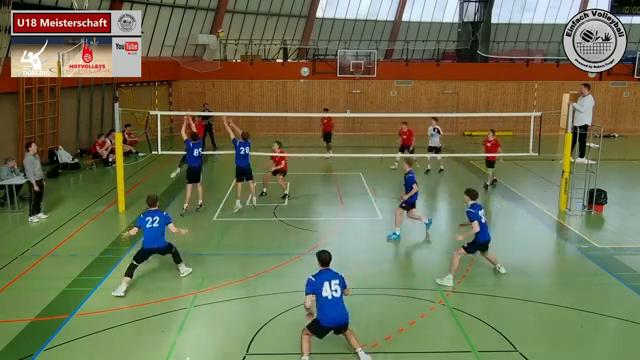attacco: (171, 104, 208, 186)
muro: (217, 114, 261, 212), (176, 112, 205, 216)
